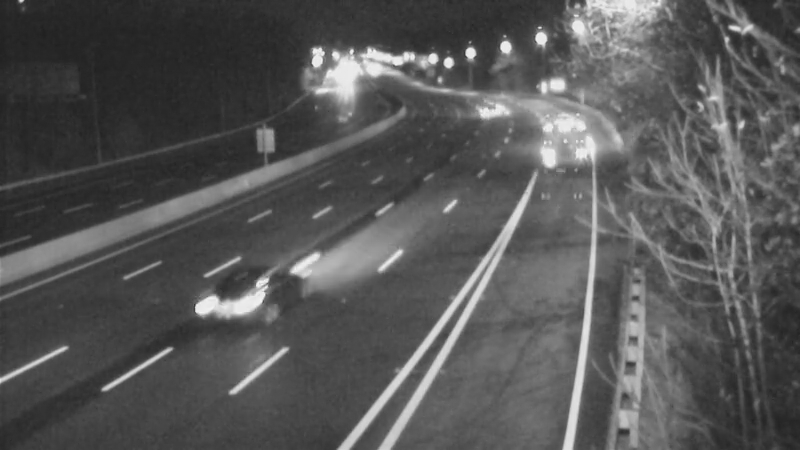vehicle: (181, 250, 291, 360), (460, 84, 510, 134), (532, 112, 582, 162)
